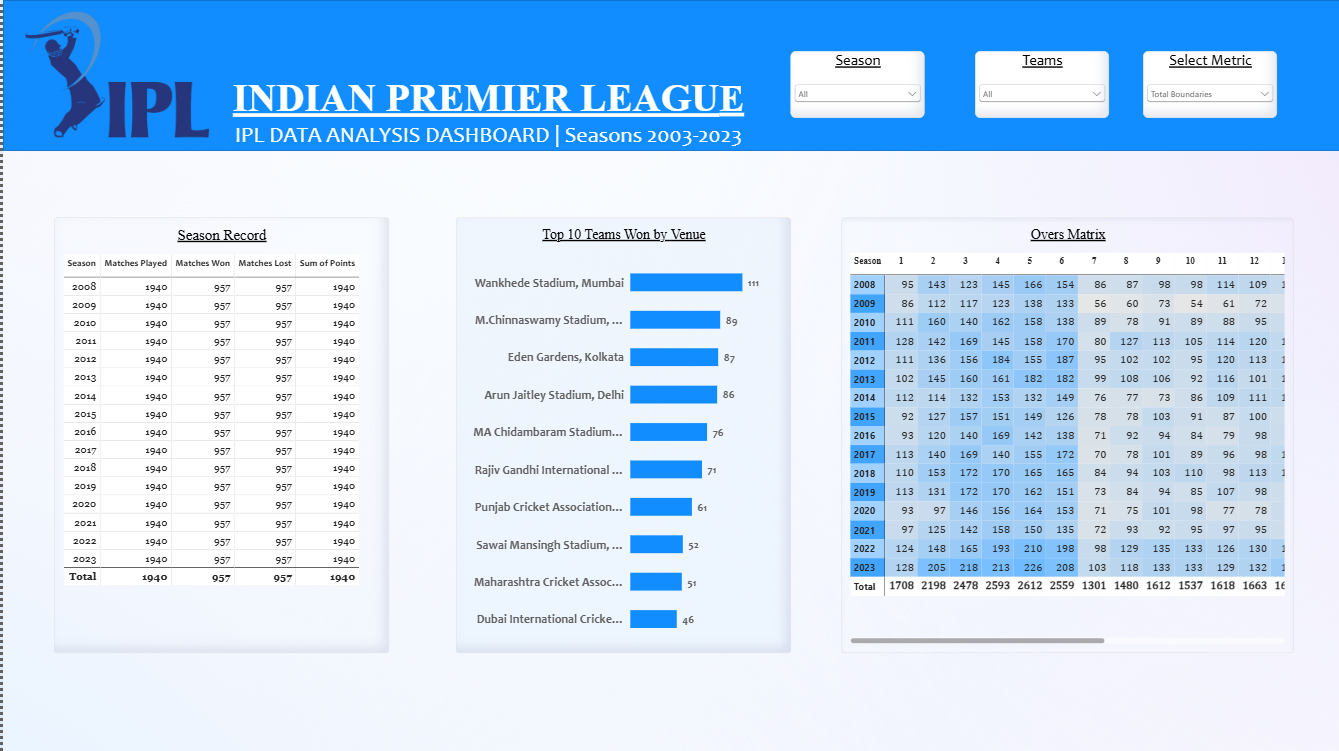

The page's visual inventory and layout, read from the dashboard file:
{"tool":"powerbi","page":{"name":"Team Profile","canvas":[1920,1080],"ordinal":1},"visuals":[{"type":"shape","box":[0,0,1920,216],"z":0},{"type":"slicer","title":"Season","fields":{"Values":["dim_SeasonResults.Season"]},"box":[1128,72,192,96],"z":1000},{"type":"slicer","title":"Teams","fields":{"Values":["dim_Team.Team"]},"box":[1392,72,192,96],"z":2000},{"type":"tableEx","title":"Season Record","fields":{"Values":["TeamMatches.Season","Table_Measures.Matches Played","Table_Measures.Matches Won","Table_Measures.Matches Lost","Sum(fact_PointsTable.Points)"]},"box":[72,312,480,624],"z":3000},{"type":"clusteredBarChart","title":"Top 10 Teams Won by Venue","fields":{"Category":["TeamMatches.Venue"],"Y":["Table_Measures.Venue Wins"]},"box":[648,312,480,624],"z":4000},{"type":"slicer","title":"Select Metric","fields":{"Values":["Metric Selector.Metric Selector"]},"box":[1632,72,192,96],"z":5000},{"type":"pivotTable","title":"Overs Matrix","fields":{"Columns":["fact_Overs.Over"],"Rows":["DimSeason.Season"],"Values":["Table_Measures.Total Boundaries"]},"box":[1200,312,648,624],"z":6000},{"type":"group","id":"g1","title":"Group 1","box":[10,10,1128,216],"z":7000},{"type":"image","box":[10,10,312,192],"z":9000,"group":"g1"},{"type":"textbox","box":[250,106,888,120],"z":10000,"group":"g1"}]}

Visuals, with their boxes in screenshot pixels (x1, y1, x2, y2), scaled from the page's 1920x1080 canvas onto the 1339x751 screenshot:
shape: x1=0 y1=0 x2=1338 y2=150
"Season" slicer: x1=787 y1=50 x2=921 y2=117
"Teams" slicer: x1=971 y1=50 x2=1105 y2=117
"Season Record" tableEx: x1=50 y1=217 x2=385 y2=651
"Top 10 Teams Won by Venue" clusteredBarChart: x1=452 y1=217 x2=787 y2=651
"Select Metric" slicer: x1=1138 y1=50 x2=1272 y2=117
"Overs Matrix" pivotTable: x1=837 y1=217 x2=1289 y2=651
"Group 1" group: x1=7 y1=7 x2=794 y2=157
image: x1=7 y1=7 x2=225 y2=140
textbox: x1=174 y1=74 x2=794 y2=157
